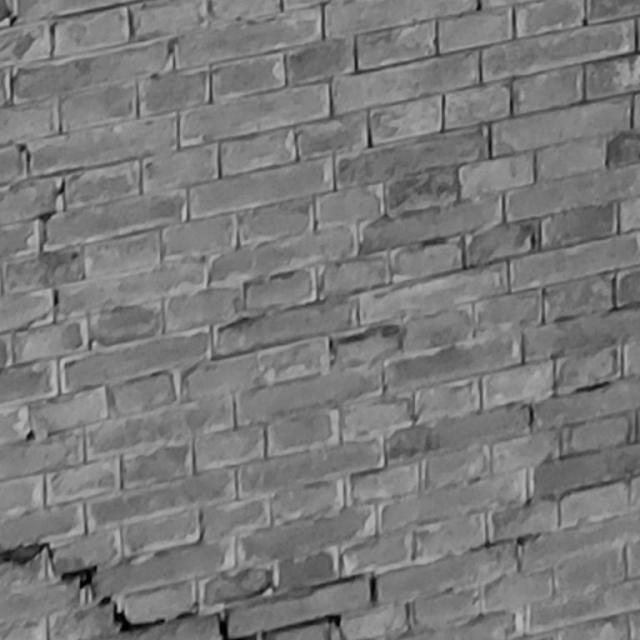crack: (1, 542, 342, 640)
